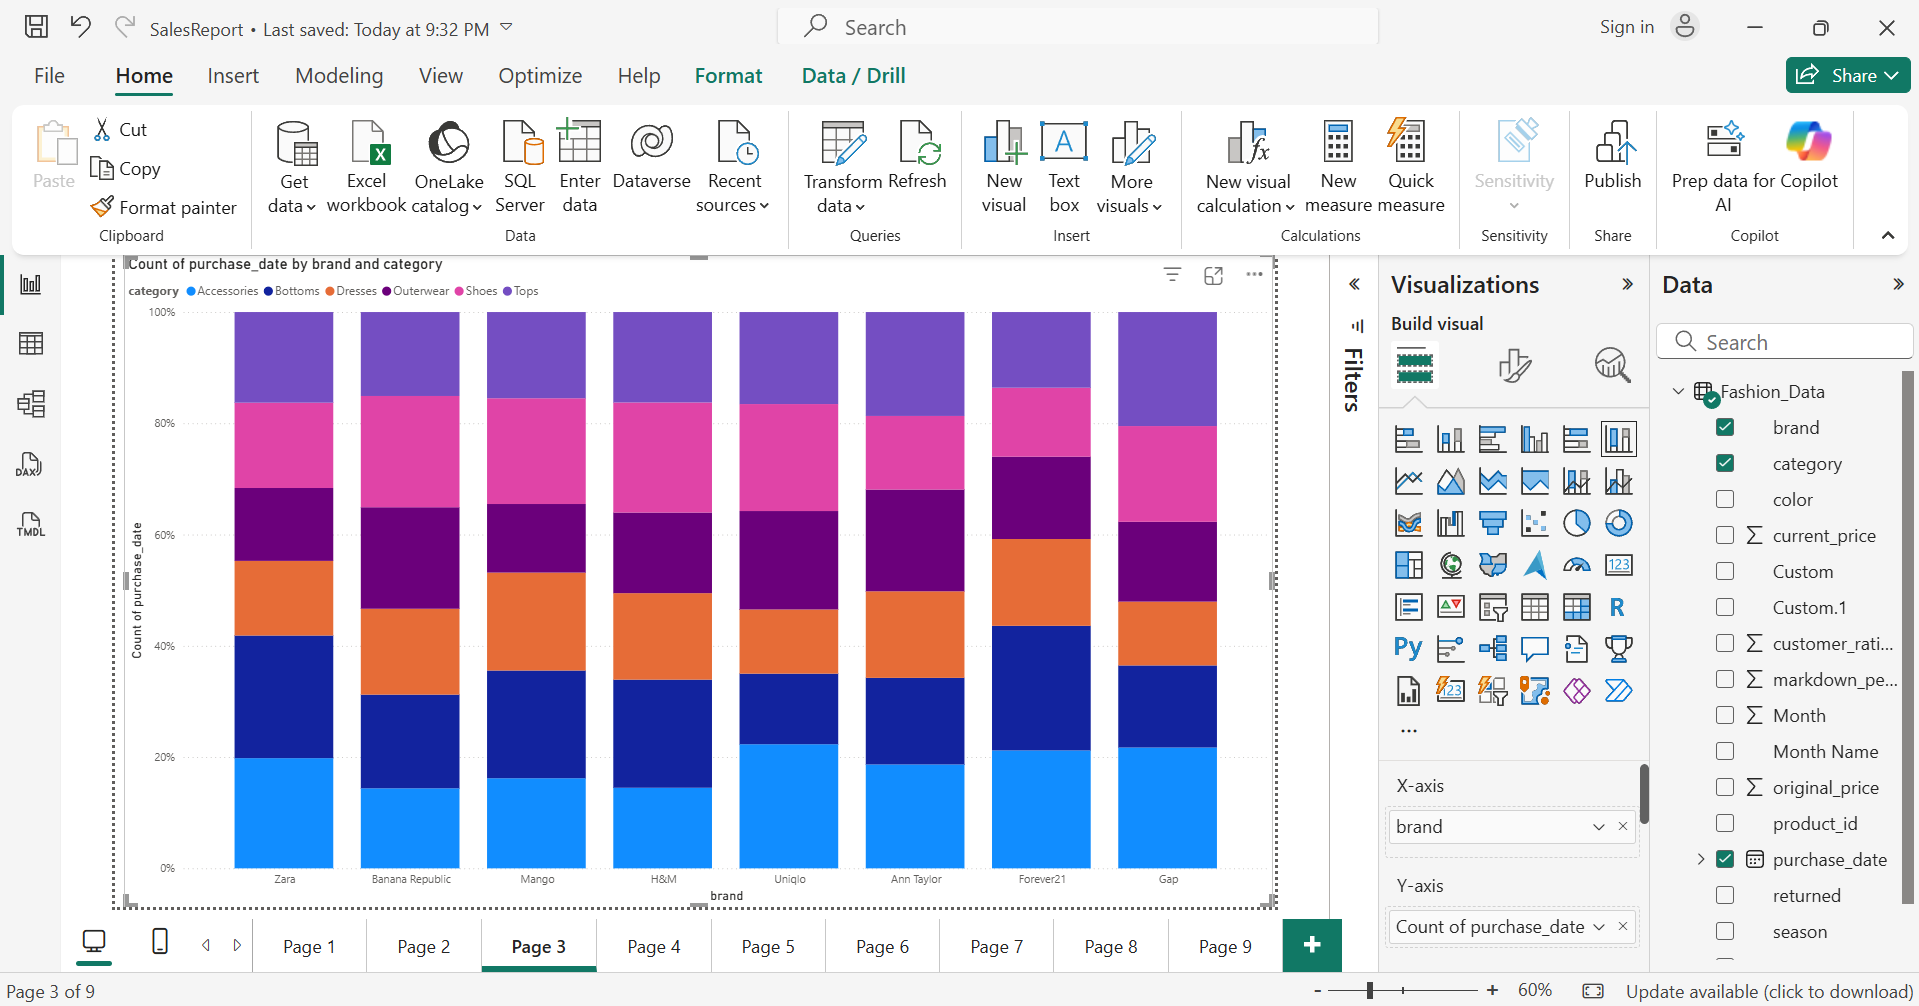

What the dashboard file says about the page in this screenshot:
{"tool":"powerbi","page":{"name":"Page 3","canvas":[1280,720],"ordinal":2},"visuals":[{"type":"hundredPercentStackedColumnChart","fields":{"Y":["CountNonNull(Fashion_Data.purchase_date)"],"Category":["Fashion_Data.brand"],"Series":["Fashion_Data.category"]},"box":[9.4,0,1269.9,720],"z":0}]}

Visuals, with their boxes on the page's 1280x720 design canvas (x1, y1, x2, y2). These are canvas units, not pixel positions in the 1919x1006 screenshot, which may show the page scaled, cropped or inside an application window:
hundredPercentStackedColumnChart - CountNonNull(Fashion_Data.purchase_date) x Fashion_Data.brand: region(9, 0, 1279, 720)
